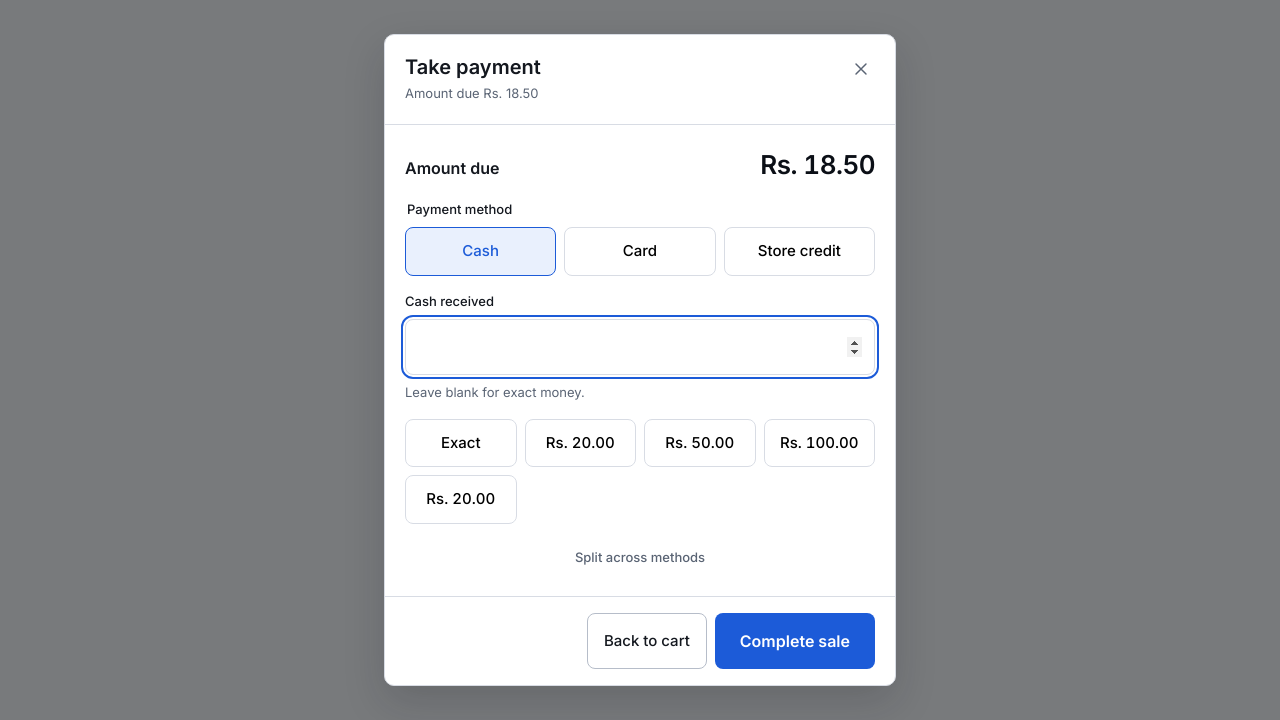
Test: PaymentDialog › works out change from cash tendered
In the number field labelled "Cash received": (640, 347) [405,319,875,375], type "20"
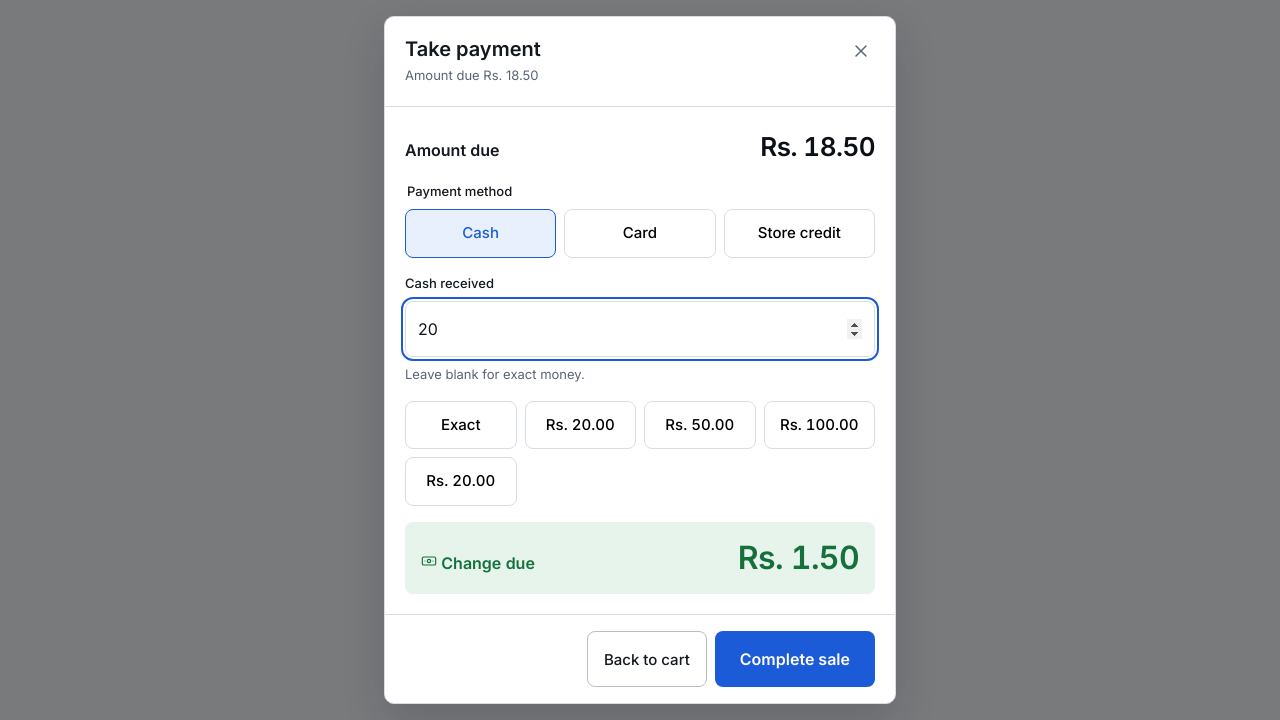
Now the text "Change due" is shown, box [421,550,535,574]
Now the text "Rs. 1.50" is shown, box [738,534,859,582]
